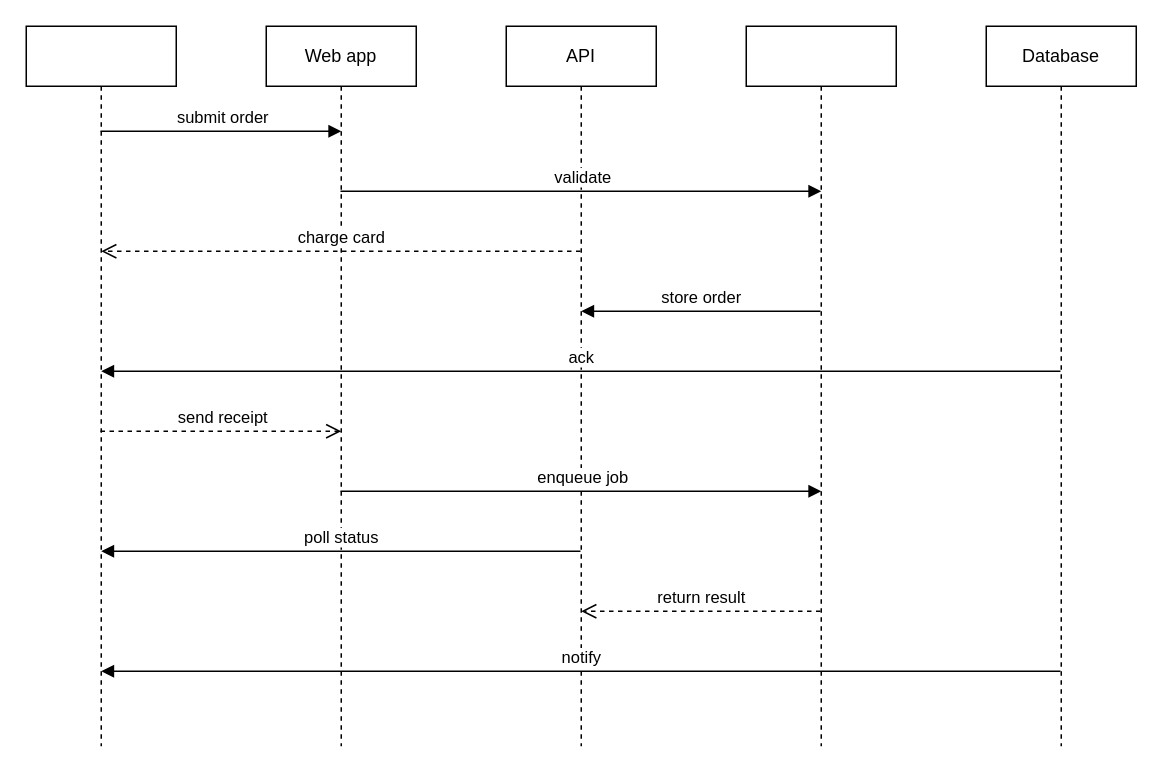
The diagram is 1163 pixels wide and 773 high, and some of its shapes have lost their labels. The shapes that lost their labels are listed below. From the top down, each one's box as (x1, y1, x2, y2) in pixels, then its label:
(25, 25, 176, 746): Customer
(745, 25, 896, 746): Payments
